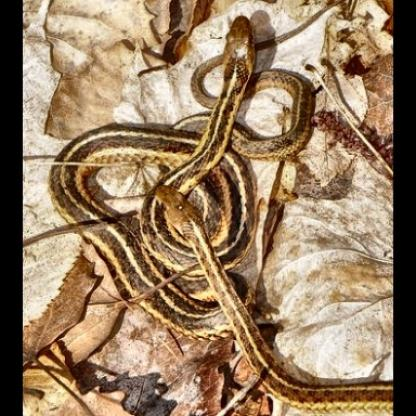Snake: (47, 12, 376, 396)
